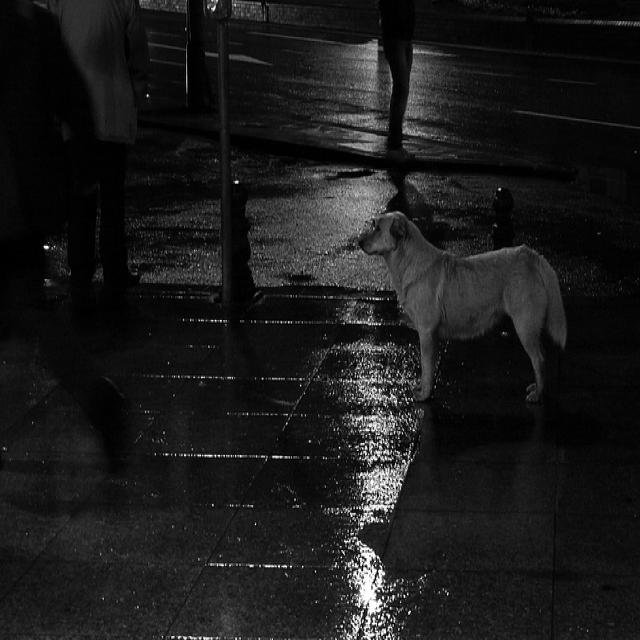Dog: (362, 196, 592, 425)
